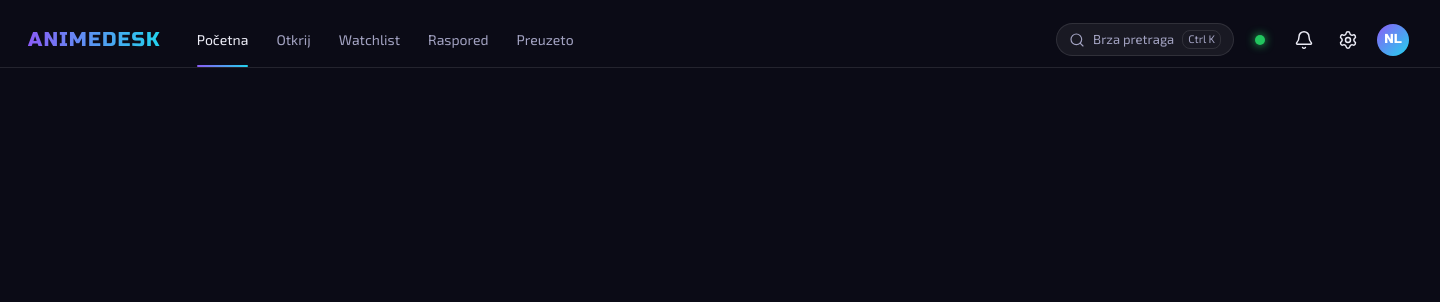
TopBar › avatar menu › offers leaving fullscreen while in fullscreen
The image size is (1440, 302).
Click the button with aria-label "Nalog".
click(1393, 40)  # box [1374, 20, 1412, 58]
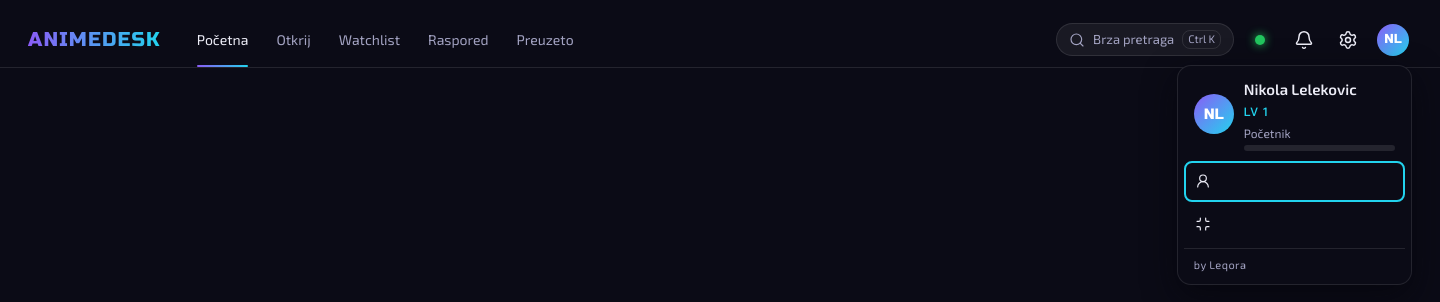
Expected: the menu item "Izađi iz celog ekrana (Esc)" is shown, [1184, 204, 1405, 244]
